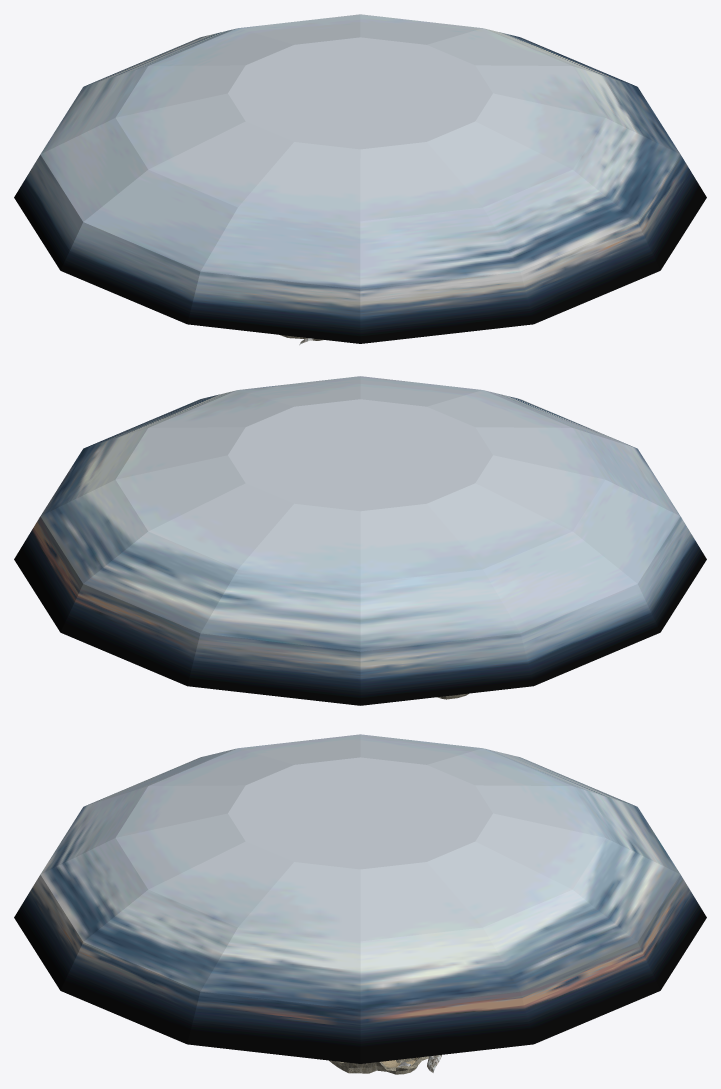
File: recovered_map_mp7.glb
3 renders of one model, top to bottom at view 1: azimuth 30°, elevation 25°; view 2: azimuth 150°, elevation 25°; view 3: azimuth 270°, elevation 25°, orthographic.
Parts seen in each view (by area): view 1: S_gen_cloudy_blue_sky, S_gen_cloudy_blue_top; view 2: S_gen_cloudy_blue_sky, S_gen_cloudy_blue_top; view 3: S_gen_cloudy_blue_sky, S_gen_cloudy_blue_top, W_mp7_rock.
Part boxes in pixels (x1,y1,x2,y2): S_gen_cloudy_blue_sky: (14, 14, 706, 343); S_gen_cloudy_blue_top: (228, 37, 492, 149); S_gen_cloudy_blue_sky: (14, 376, 706, 705); S_gen_cloudy_blue_top: (228, 399, 492, 511); S_gen_cloudy_blue_sky: (14, 734, 706, 1063); S_gen_cloudy_blue_top: (228, 757, 492, 869); W_mp7_rock: (329, 1056, 428, 1074).
Size of what is drawn, in the model's own units: 468 by 156 by 468.
35 materials, 35 textured.
